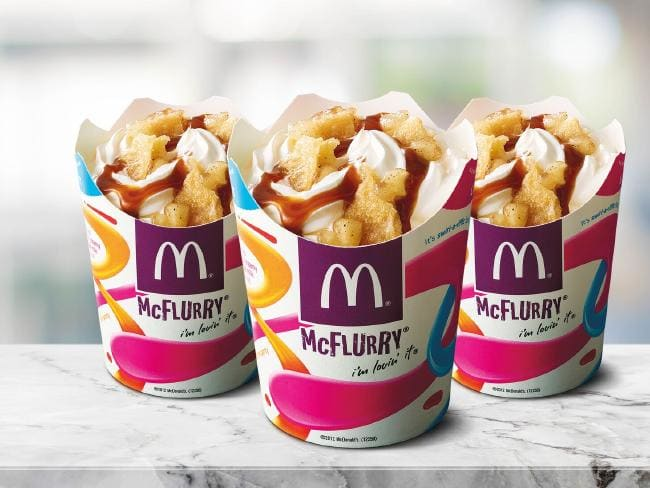mcdonalds: (312, 257, 392, 313), (150, 238, 215, 289), (488, 237, 548, 284)
